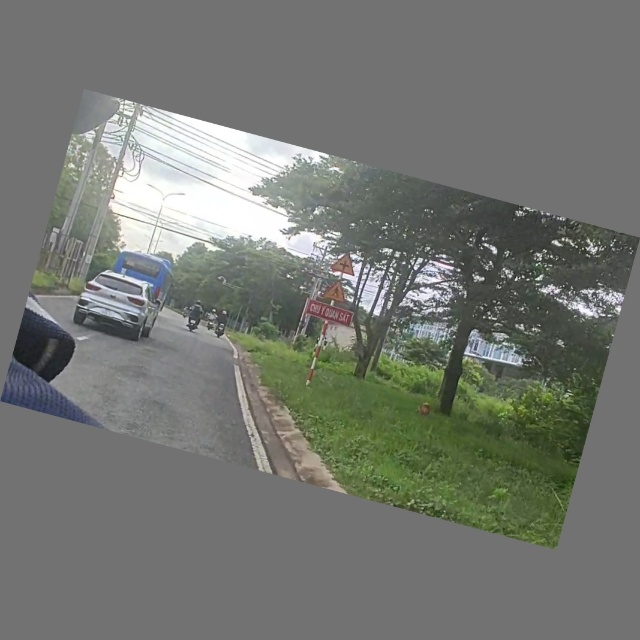W.205a: (328, 248, 363, 279)
W.224: (321, 277, 355, 306)
